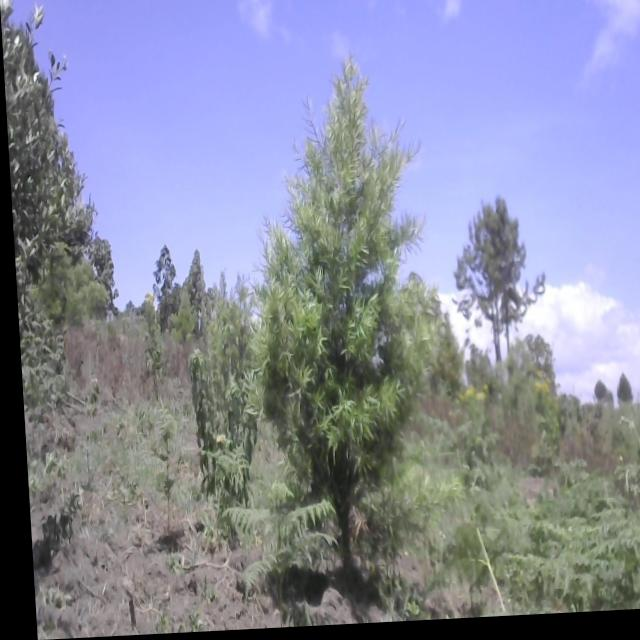Podocarpus falcatus: (249, 64, 436, 578)
other: (0, 0, 82, 331), (444, 195, 540, 363), (81, 228, 116, 315), (179, 245, 212, 328), (142, 241, 179, 315)
